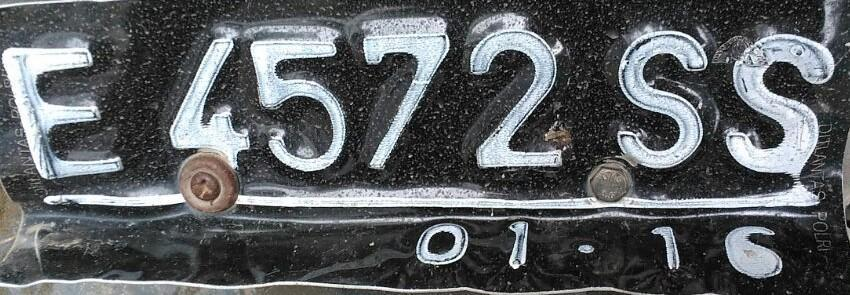2: (454, 32, 580, 173)
4: (164, 26, 250, 174)
5: (244, 28, 359, 174)
7: (359, 27, 452, 184)
E: (0, 44, 129, 186)
S: (712, 33, 844, 176), (598, 30, 723, 180)
